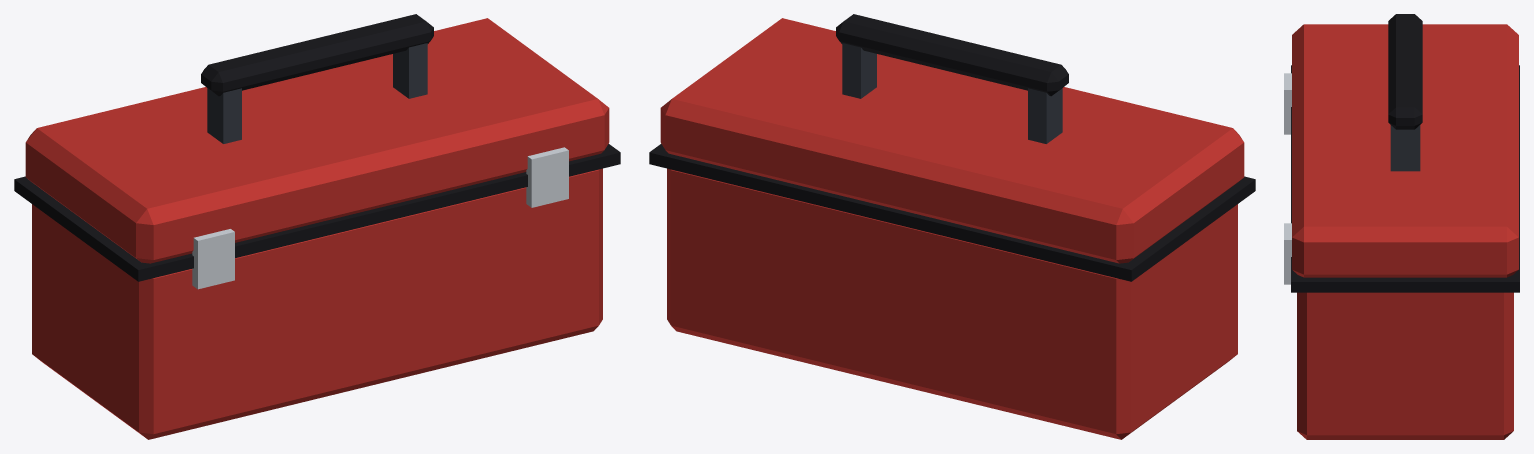
The model's file is Toolbox.fbx.
The picture shows the model from 3 angles, left to right: view 1: azimuth 30°, elevation 25°; view 2: azimuth 150°, elevation 25°; view 3: azimuth 270°, elevation 25°; orthographic projection. The views are drawn at different scales.
Visible parts, largest first — view 1: Toolbox; view 2: Toolbox; view 3: Toolbox.
Boxes of the visible parts, x1=… form: Toolbox: x1=14, y1=14, x2=620, y2=439; Toolbox: x1=649, y1=14, x2=1255, y2=439; Toolbox: x1=1284, y1=14, x2=1519, y2=439.
Bounding box in the file's own units: 0.52 × 0.3125 × 0.239.
Materials: 1 (1 with a texture image).
